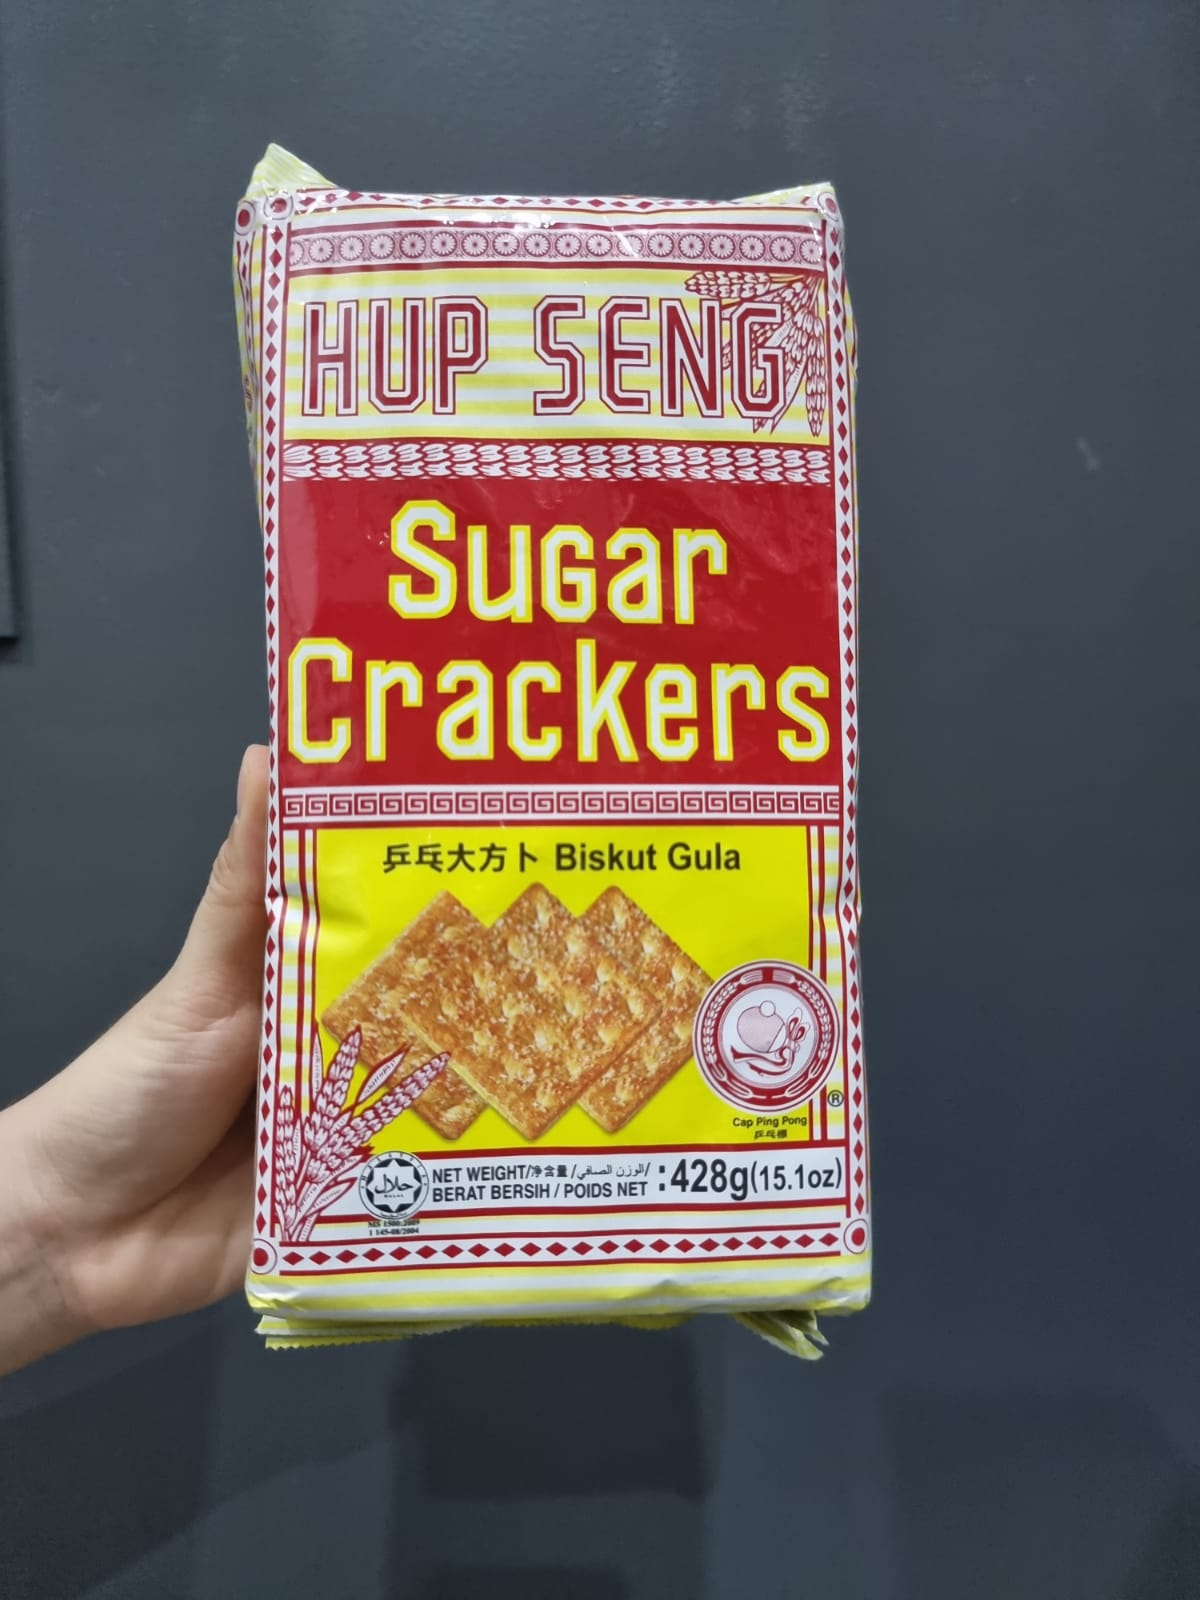Biscuits: (272, 203, 868, 1276)
